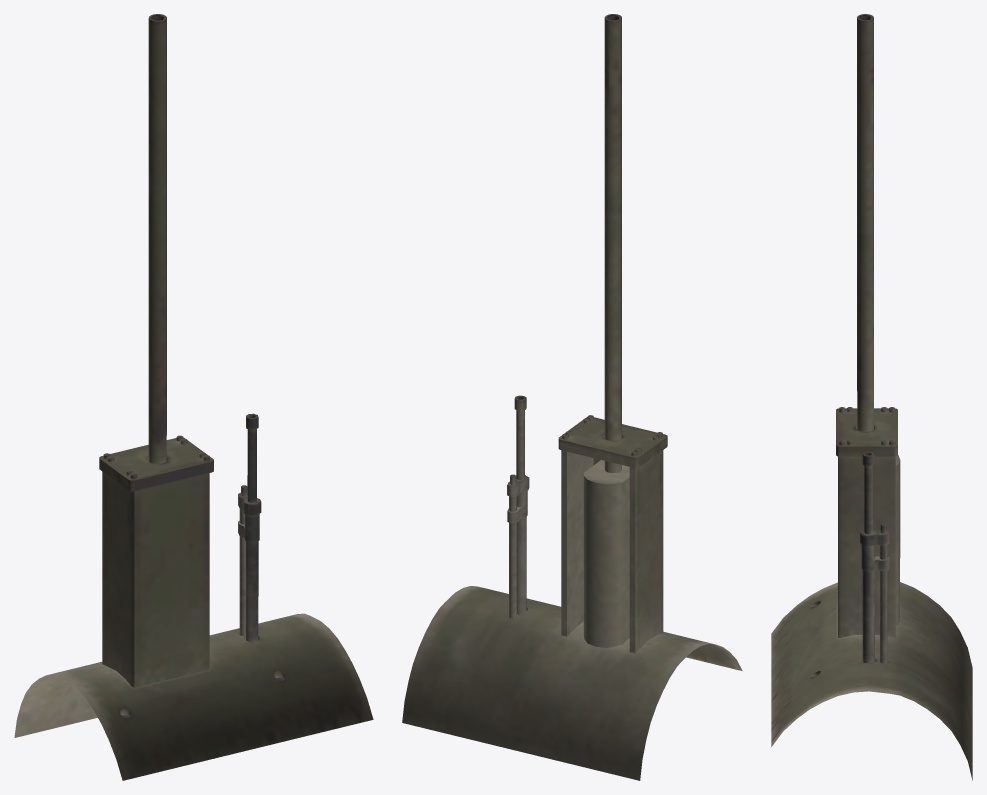
The model's file is Gun_05.glb.
3 views of the same model, side by side, from view 1: azimuth 30°, elevation 25°; view 2: azimuth 150°, elevation 25°; view 3: azimuth 270°, elevation 25° (orthographic). The views are drawn at different scales.
Parts seen in each view (by area): view 1: set_0_group_0; view 2: set_0_group_0; view 3: set_0_group_0.
Part boxes in pixels (<box>): set_0_group_0: <box>14,14,373,780</box>; set_0_group_0: <box>402,14,742,780</box>; set_0_group_0: <box>771,14,972,780</box>.
Bounding box in the file's own units: 0.4928 × 1.39 × 0.3682.
1 material, 1 textured.
